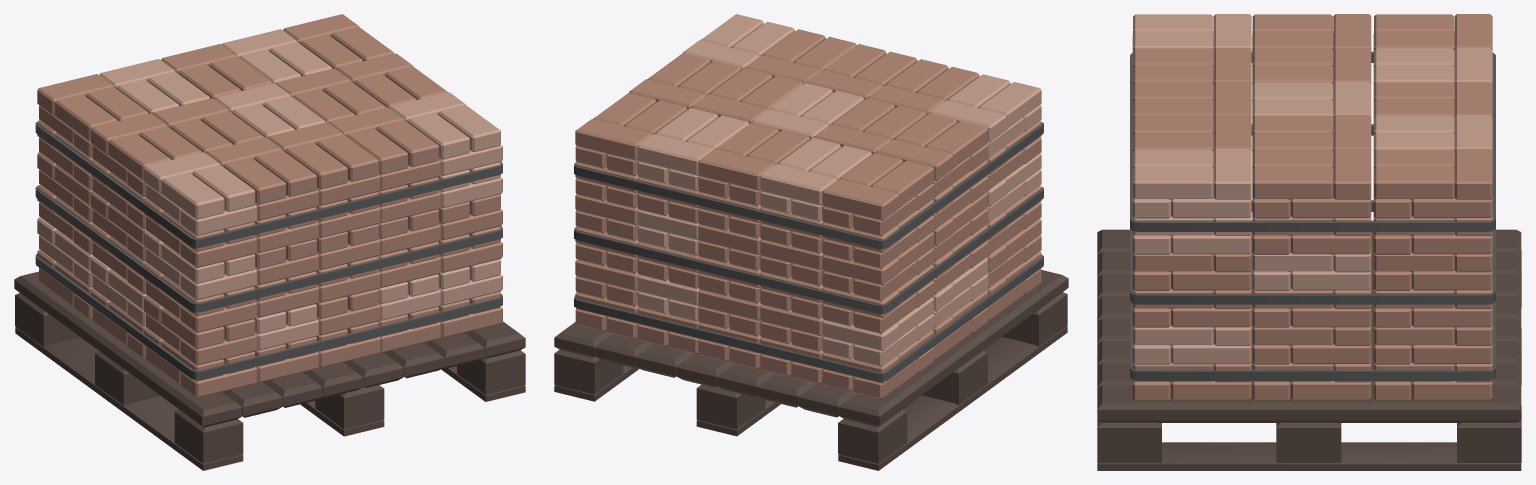
Rendered from props_47.glb.
3 renders of one model, left to right at view 1: azimuth 30°, elevation 25°; view 2: azimuth 150°, elevation 25°; view 3: azimuth 270°, elevation 25°, orthographic. The views are drawn at different scales.
Visible parts, largest first — view 1: props_47; view 2: props_47; view 3: props_47.
Boxes of the visible parts, x1,y1,x2,y2 form: props_47: [14, 14, 525, 470]; props_47: [554, 14, 1068, 470]; props_47: [1097, 14, 1521, 470].
Bounding box in the file's own units: 1.99 × 1.49 × 2.
1 material, 1 textured.
